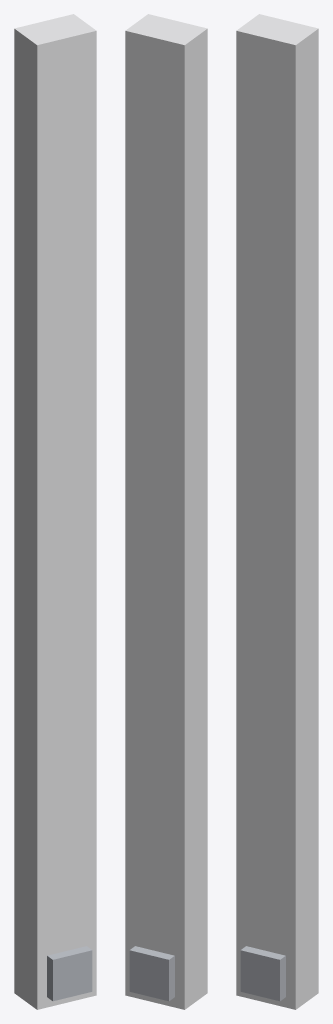
File: turbine_rotor.glb
3 renders of one model, left to right at view 1: azimuth 30°, elevation 25°; view 2: azimuth 150°, elevation 25°; view 3: azimuth 330°, elevation 25°, orthographic.
Visible parts, largest first — view 1: turbine_rotor; view 2: turbine_rotor; view 3: turbine_rotor.
Boxes of the visible parts, box(x1,y1,x2,y2) form: turbine_rotor: box(14, 14, 96, 1009); turbine_rotor: box(125, 14, 207, 1009); turbine_rotor: box(236, 14, 318, 1009).
Size of the model in its own units: 0.06 by 0.93 by 0.06.
1 material, 1 textured.
